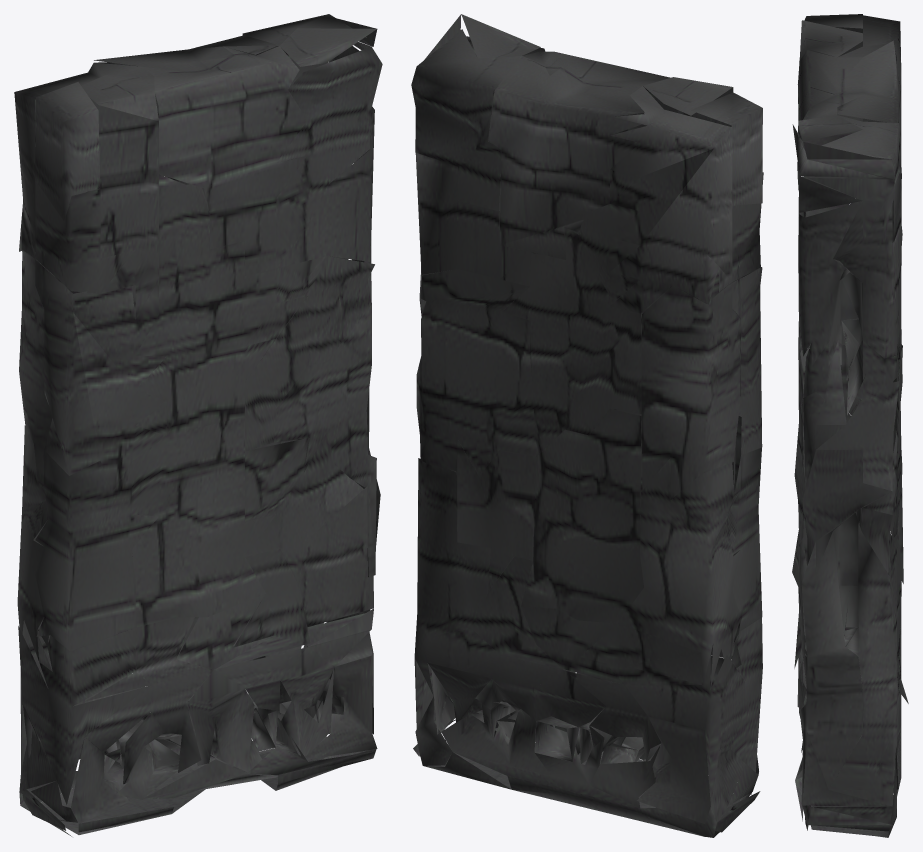
The model's file is dungeon small tall wall.glb.
3 renders of one model, left to right at view 1: azimuth 30°, elevation 25°; view 2: azimuth 150°, elevation 25°; view 3: azimuth 270°, elevation 25°, orthographic. The views are drawn at different scales.
Visible parts, largest first — view 1: Mesh_0; view 2: Mesh_0; view 3: Mesh_0.
Part boxes in pixels (x1,y1,x2,y2): Mesh_0: (14,14,382,836); Mesh_0: (411,14,763,837); Mesh_0: (792,14,908,837).
Bounding box in the file's own units: 0.32 × 0.7073 × 0.1073.
Materials: 1 (1 with a texture image).
